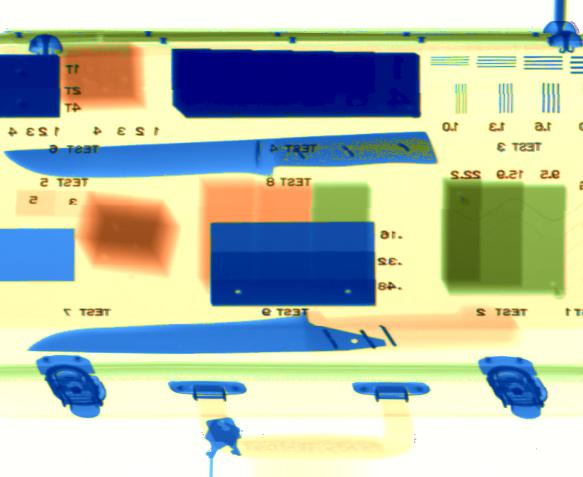Knife: (2, 131, 439, 178), (27, 309, 401, 355)
